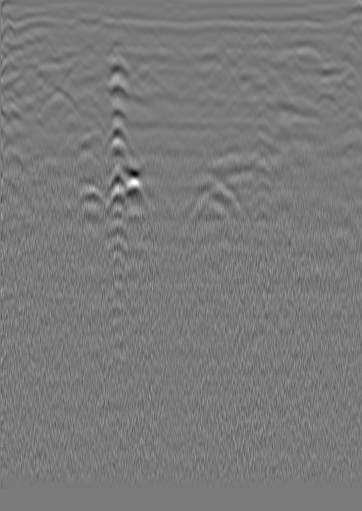가스: (69, 185, 105, 217)
상수: (297, 39, 317, 59)
오수: (3, 24, 23, 44)
우수: (173, 37, 193, 57)
